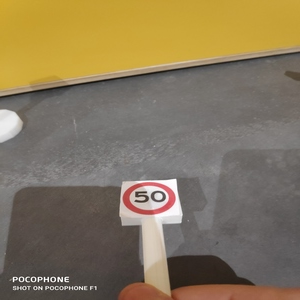50-bord: (122, 182, 178, 215)
